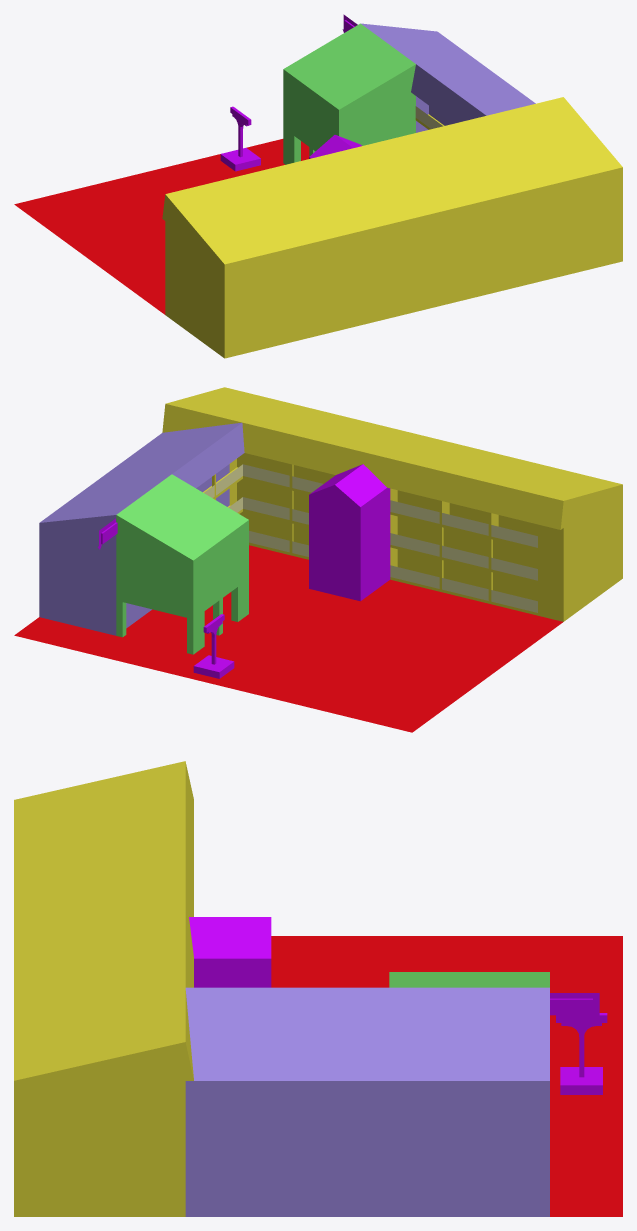
File: motel_removed_piecesblend.glb
3 renders of one model, top to bottom at view 1: azimuth 30°, elevation 25°; view 2: azimuth 150°, elevation 25°; view 3: azimuth 270°, elevation 25°, orthographic. The views are drawn at different scales.
Parts seen in each view (by area): view 1: yellow_motel_piece_1.001, yellow_balcony_left.004, red_base.001, green_motel_piece_1.005, blue_motel_piece_1.007; view 2: yellow_balcony_left.004, red_base.001, yellow_motel_piece_1.001, green_motel_piece_1.005, purple_motel_piece_1.006, yellow_motel_piece_1.006, blue_motel_piece_1.007, yellow_balcony_floor1_middle.001, blue_balcony_left.005, yellow_balcony_left.001, green_motel_piller_3, yellow_balcony_floor1_middle.003; view 3: yellow_balcony_left.004, yellow_motel_piece_1.001, red_base.001, blue_motel_piece_1.007, green_motel_piece_1.005.
Part boxes in pixels (<box>): yellow_motel_piece_1.001: <box>162,97,622,358</box>; yellow_balcony_left.004: <box>25,14,535,305</box>; red_base.001: <box>14,139,309,314</box>; green_motel_piece_1.005: <box>283,23,415,151</box>; blue_motel_piece_1.007: <box>361,23,488,132</box>; yellow_balcony_left.004: <box>39,389,612,702</box>; red_base.001: <box>14,545,562,732</box>; yellow_motel_piece_1.001: <box>162,387,622,621</box>; green_motel_piece_1.005: <box>116,474,248,618</box>; purple_motel_piece_1.006: <box>309,465,390,601</box>; yellow_motel_piece_1.006: <box>229,455,537,600</box>; blue_motel_piece_1.007: <box>40,423,244,628</box>; yellow_balcony_floor1_middle.001: <box>390,559,503,604</box>; blue_balcony_left.005: <box>204,464,242,499</box>; yellow_balcony_left.001: <box>245,464,322,494</box>; green_motel_piller_3: <box>187,611,204,654</box>; yellow_balcony_floor1_middle.003: <box>390,527,497,568</box>; yellow_balcony_left.004: <box>14,812,607,1216</box>; yellow_motel_piece_1.001: <box>14,761,193,1216</box>; red_base.001: <box>271,936,622,1216</box>; blue_motel_piece_1.007: <box>185,987,549,1075</box>; green_motel_piece_1.005: <box>389,974,549,987</box>.
Bounding box in the file's own units: 31 × 9 × 28.4.
